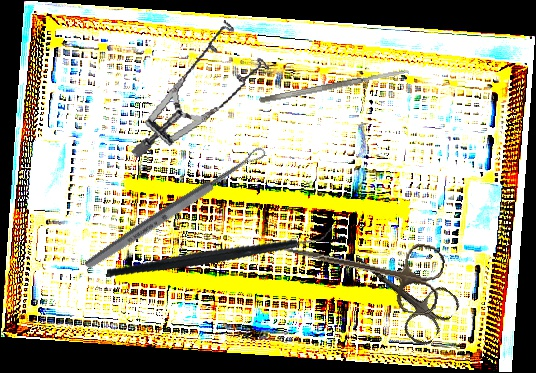Chopper: (105, 183, 335, 318)
Iris Scissors: (276, 218, 448, 318), (337, 232, 464, 350)
Spatula Surgical: (258, 67, 411, 105)
Speculum: (108, 13, 282, 159)
Surgical Spoon: (81, 144, 269, 273)
